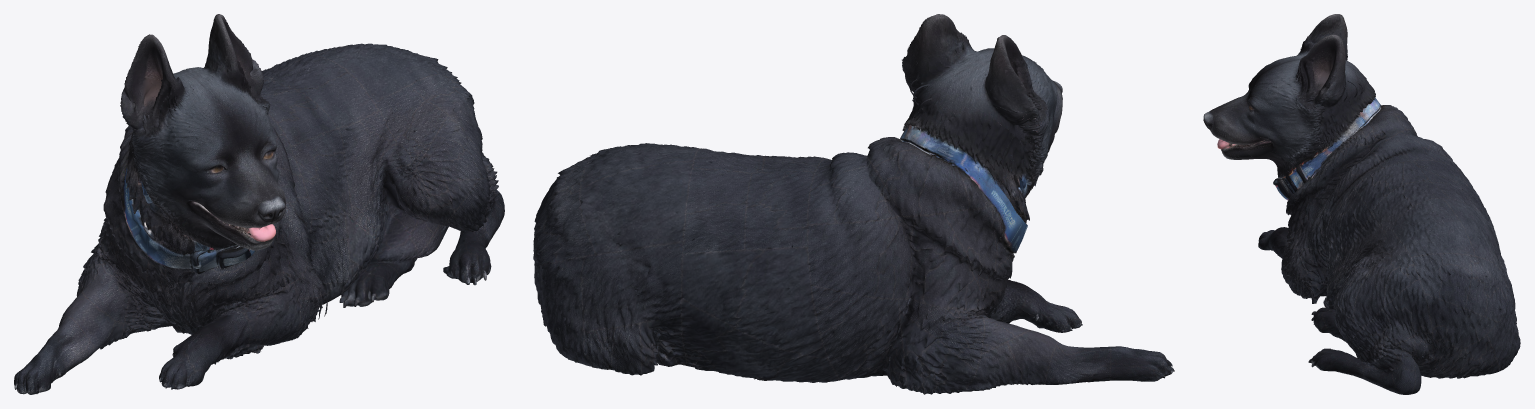
The model's file is dog-lying.glb.
The picture shows the model from 3 angles, left to right: view 1: azimuth 30°, elevation 25°; view 2: azimuth 150°, elevation 25°; view 3: azimuth 270°, elevation 25°; orthographic projection. The views are drawn at different scales.
Parts seen in each view (by area): view 1: Dog lying - black coat - 150 mm; view 2: Dog lying - black coat - 150 mm; view 3: Dog lying - black coat - 150 mm.
Boxes of the visible parts, <box> form: Dog lying - black coat - 150 mm: <box>14,14,504,394</box>; Dog lying - black coat - 150 mm: <box>533,14,1174,394</box>; Dog lying - black coat - 150 mm: <box>1203,14,1520,394</box>.
Size of the model in its own units: 0.15 by 0.0824 by 0.099.
1 material, 1 textured.
